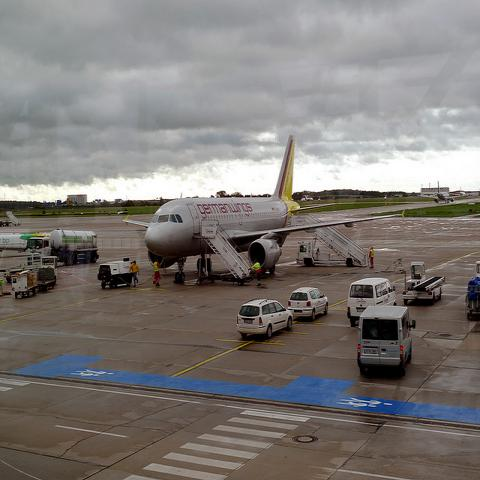car: (347, 277, 397, 328), (236, 298, 294, 340), (288, 288, 329, 321)
truck: (357, 304, 416, 378), (28, 228, 99, 266), (401, 257, 444, 307), (100, 256, 132, 290), (465, 260, 480, 320), (9, 270, 38, 298)
